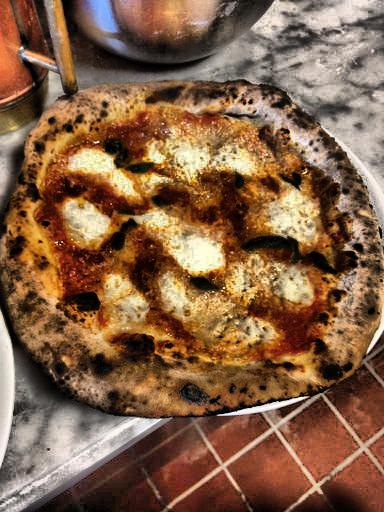pizza: (10, 58, 384, 473)
